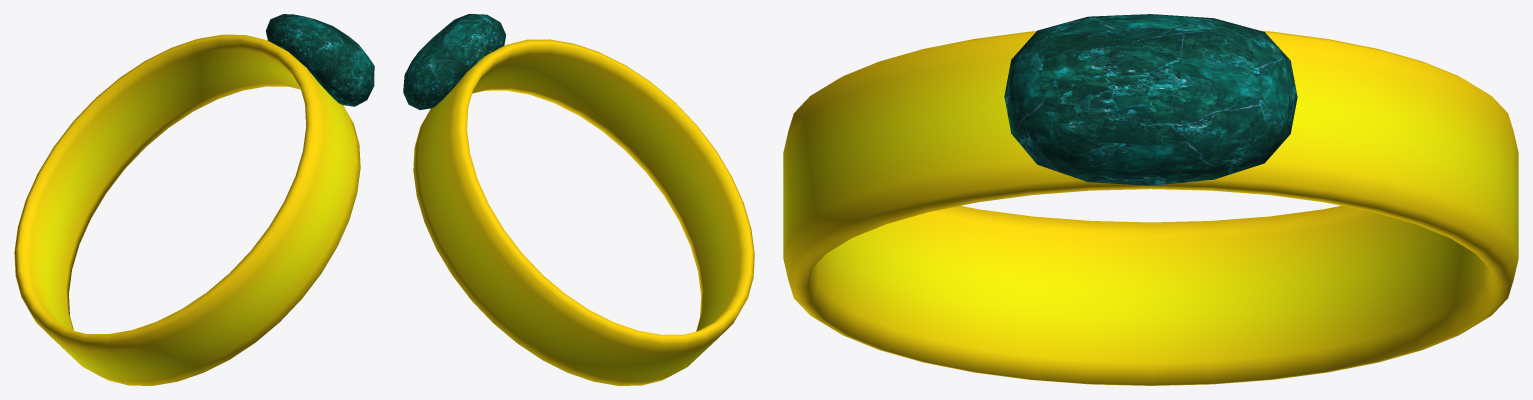
File: malachite_ring.fbx
The picture shows the model from 3 angles, left to right: view 1: azimuth 30°, elevation 25°; view 2: azimuth 150°, elevation 25°; view 3: azimuth 270°, elevation 25°; orthographic projection. The views are drawn at different scales.
Parts seen in each view (by area): view 1: ring; view 2: ring; view 3: ring.
Boxes of the visible parts, <box> form: ring: <box>14,14,374,385</box>; ring: <box>403,14,754,385</box>; ring: <box>783,14,1518,385</box>.
Bounding box in the file's own units: 33.01 × 29.9 × 34.58.
